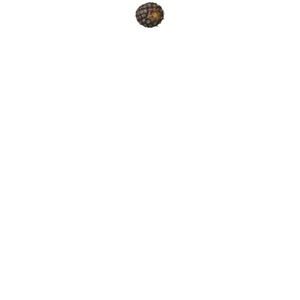abacaxi: (134, 1, 167, 32)
